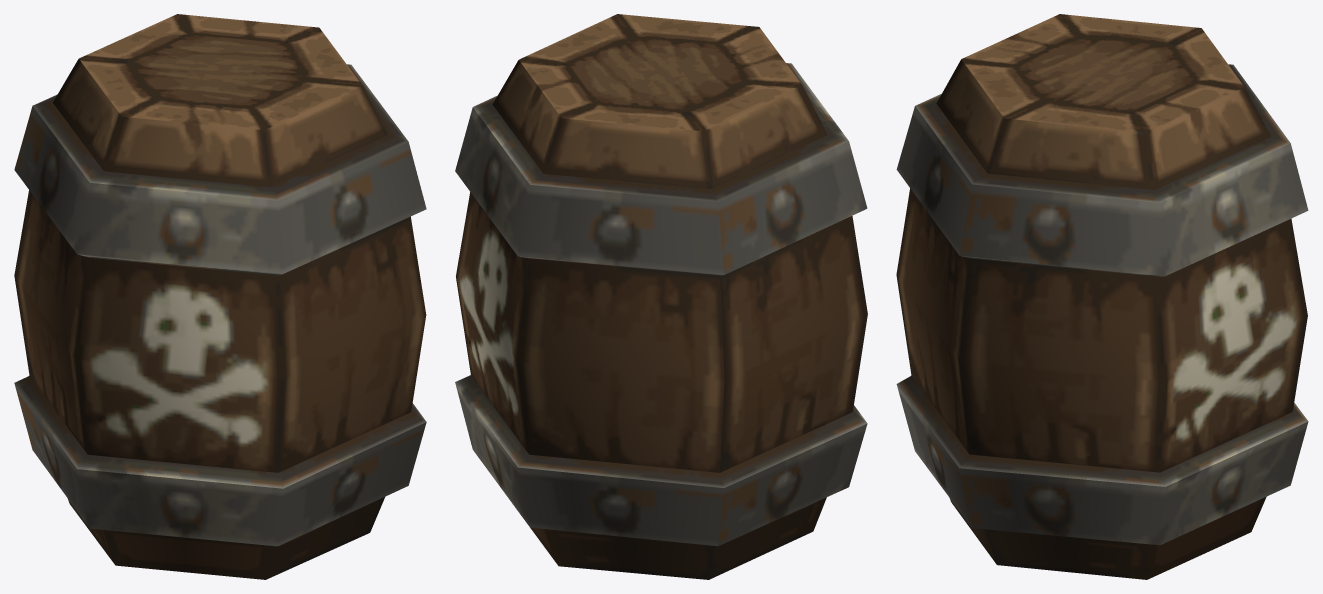
Rendered from barrel_poison_01_c363778c.glb.
3 renders of one model, left to right at view 1: azimuth 30°, elevation 25°; view 2: azimuth 150°, elevation 25°; view 3: azimuth 270°, elevation 25°, orthographic.
Size of the model in its own units: 1.1 by 1.34 by 1.12.
Materials: 1 (1 with a texture image).
